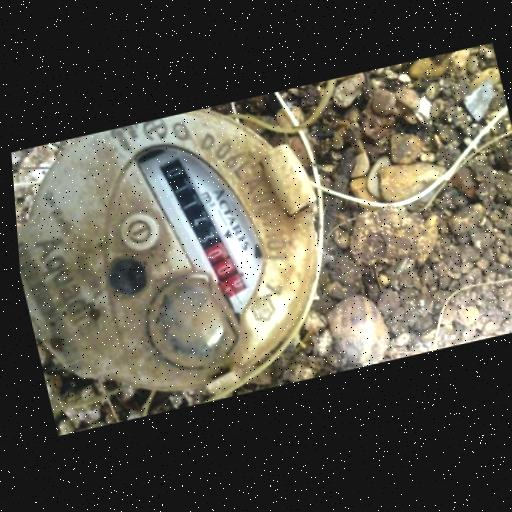0: (213, 270, 248, 300), (201, 239, 230, 268), (159, 157, 188, 183), (211, 257, 238, 281)
3: (192, 221, 222, 250)
4: (182, 204, 214, 234)
7: (174, 188, 205, 218), (167, 172, 197, 199)
border_water_meter_number: (153, 140, 254, 315)
